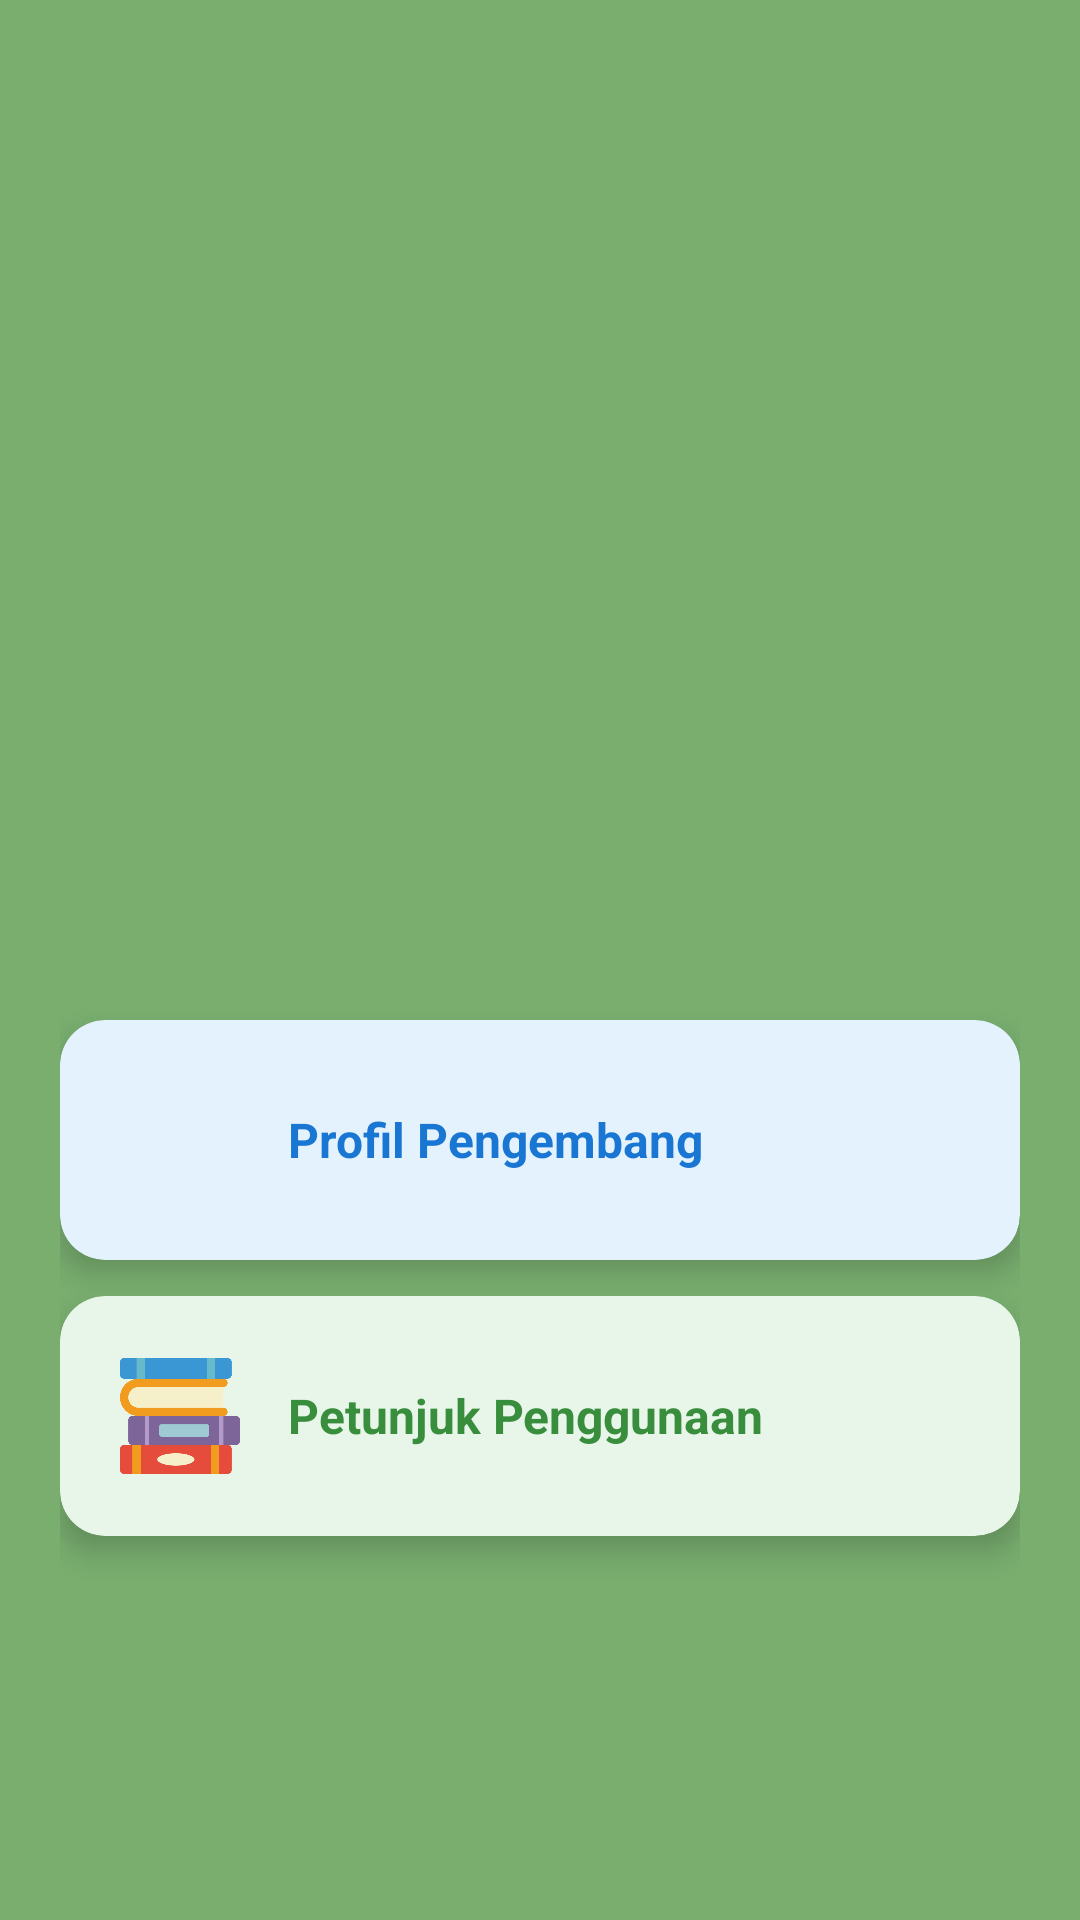

Screen size 1080px×1920px. Icon name, then its box in pixels as bbox(x1, y1, x2, y2):
book: bbox(120, 1358, 240, 1474)
